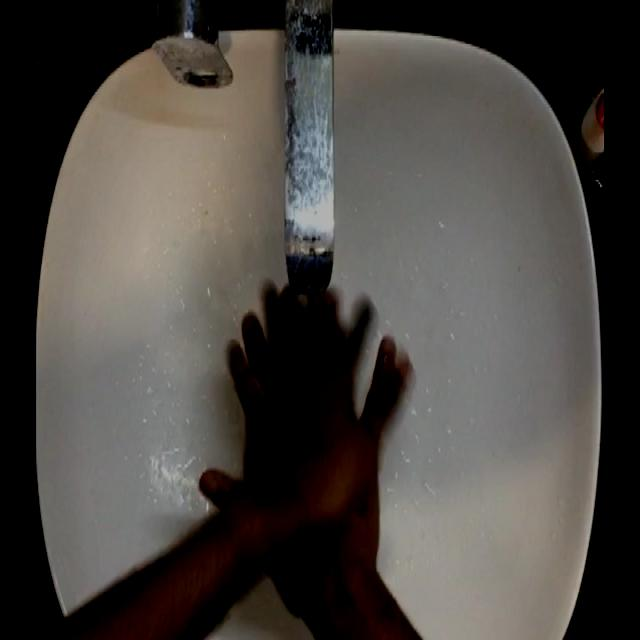step_2: (194, 250, 418, 568)
